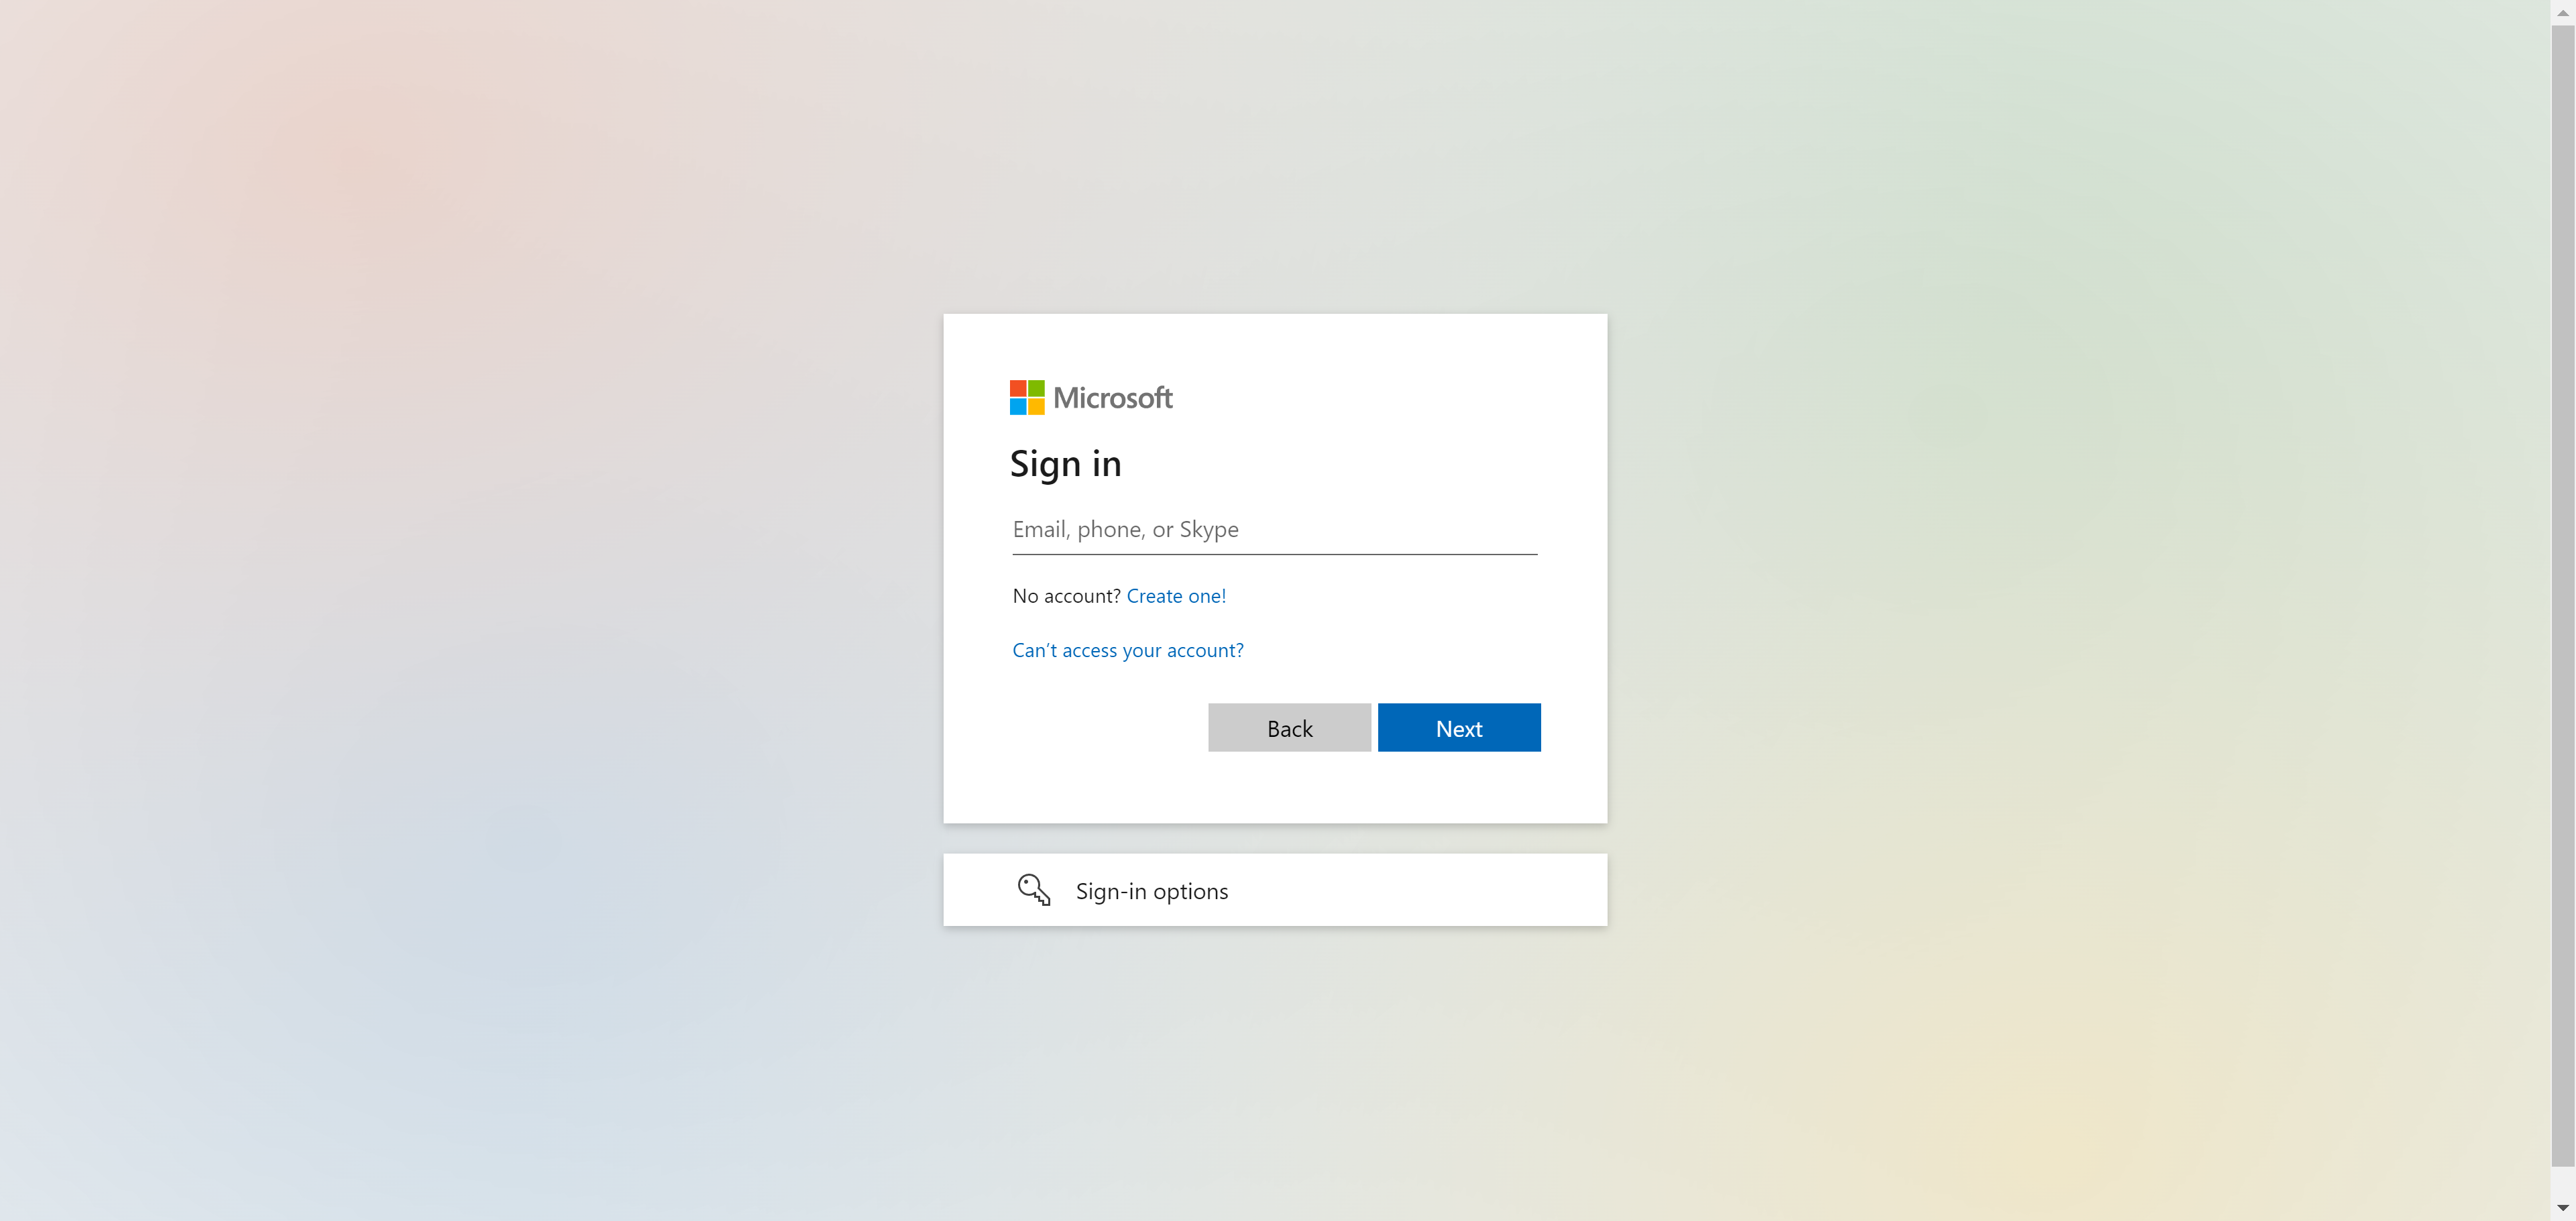login_button: (1377, 703, 1541, 751)
login_form: (1004, 500, 1552, 763)
